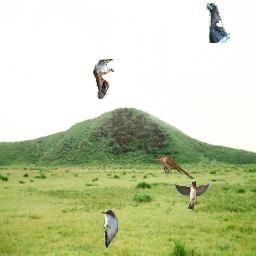Crow: (206, 3, 230, 43)
Cuckoo: (154, 156, 194, 179), (93, 59, 114, 99), (101, 209, 118, 249)
Swallow: (173, 180, 212, 210)
